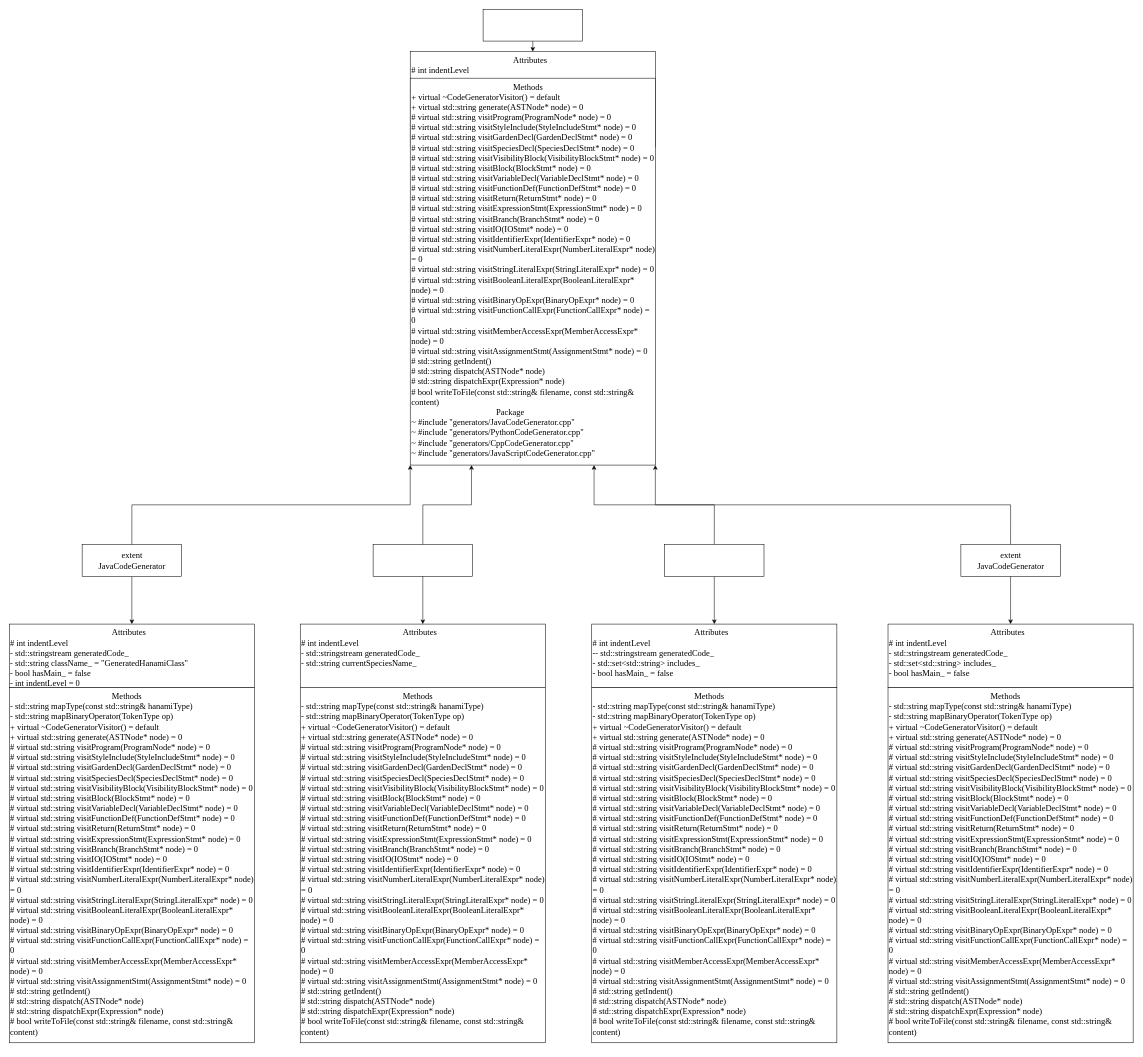
The diagram is 1143 pixels wide and 1057 high, and some of its shapes have lost their labels. The box of each missing label's shape, as (x1, y1, x2, y2) in pixels:
abstract CodeGeneratorVisitor: (483, 9, 582, 41)
extent CppCodeGenerator: (664, 544, 764, 576)
extent JavascriptCodeGenerator: (373, 544, 472, 576)
